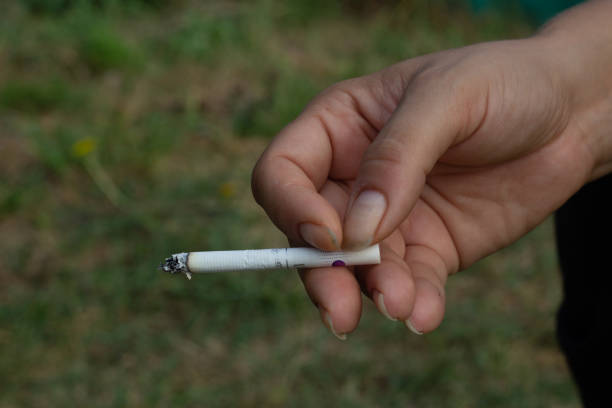cigarette: (161, 241, 380, 278)
